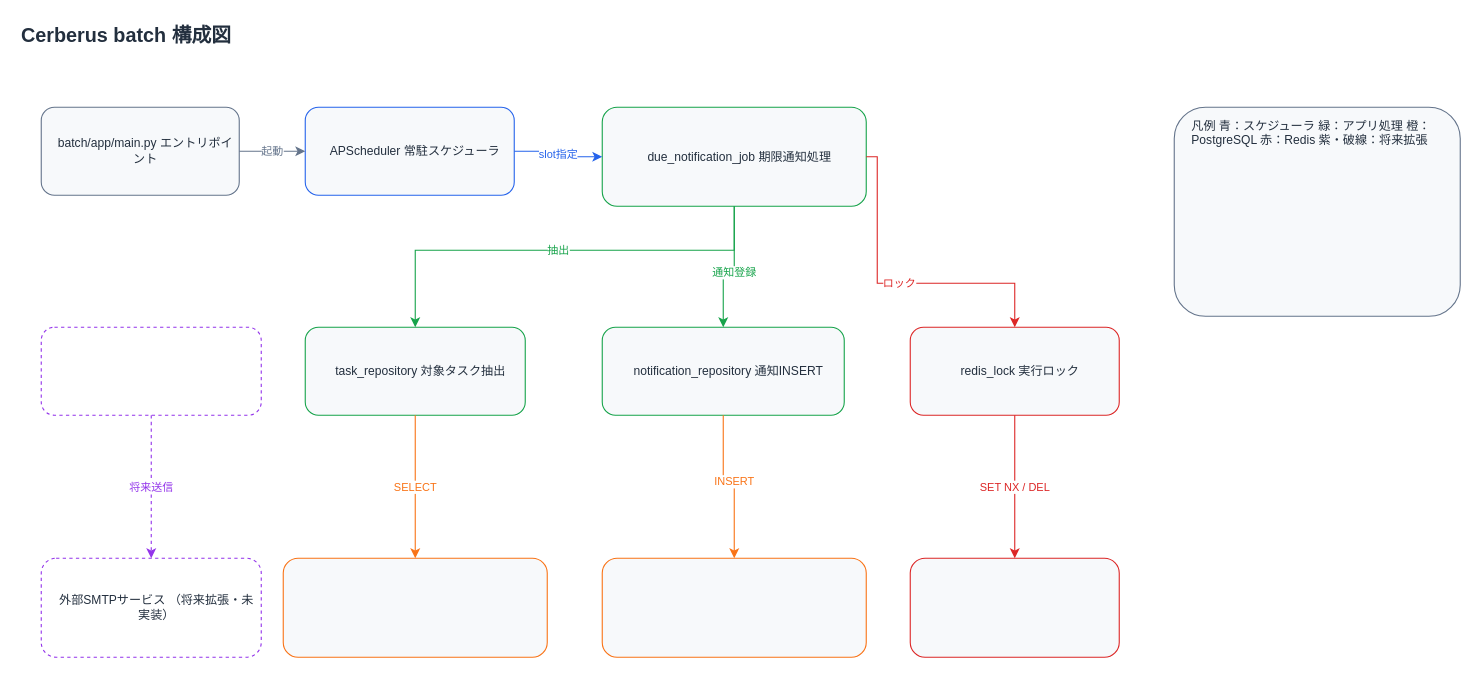
Some shapes in this 1480 by 677 pixel diagram are drawn without their labels. The centre of each missing label's shape, as x and y in pixels:
"PostgreSQL notifications" goes at point (733, 607).
"PostgreSQL tasks" goes at point (414, 607).
"Redis lock:notify_due:{date}:{slot}" goes at point (1014, 607).
"将来：email_notification_job メール通知（未実装）" goes at point (150, 370).
